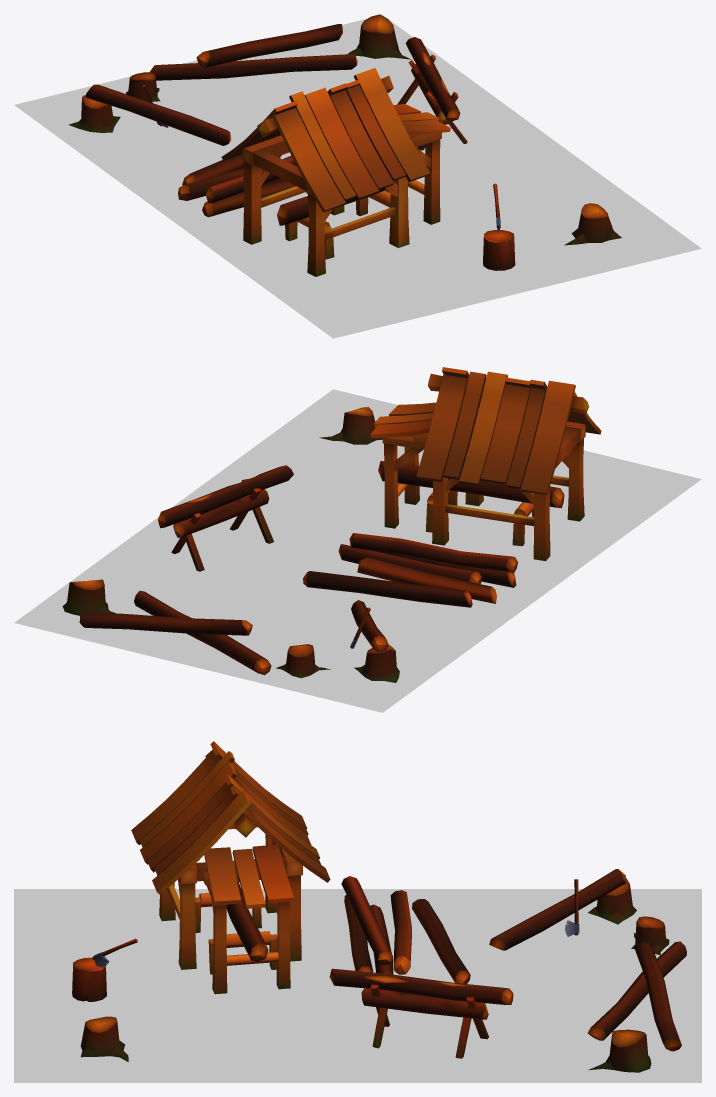
The model's file is sawmill_linear.fbx.
The picture shows the model from 3 angles, top to bottom: view 1: azimuth 30°, elevation 25°; view 2: azimuth 150°, elevation 25°; view 3: azimuth 270°, elevation 25°; orthographic projection. The views are drawn at different scales.
Visible parts, largest first — view 1: Plane.001, Cylinder.019; view 2: Plane.001, Cylinder.019; view 3: Plane.001, Cylinder.019.
Part boxes in pixels (left/top/right/bottom): Plane.001: left=14, top=15, right=701, bottom=338; Cylinder.019: left=68, top=14, right=621, bottom=276; Plane.001: left=14, top=389, right=701, bottom=712; Cylinder.019: left=62, top=367, right=601, bottom=682; Plane.001: left=14, top=889, right=701, bottom=1082; Cylinder.019: left=72, top=741, right=686, bottom=1072.
Bounding box in the file's own units: 800 × 329 × 1200.
